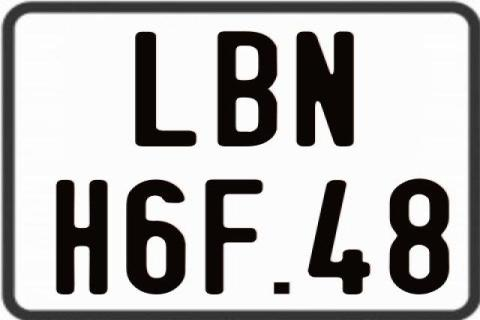0: (125, 178, 189, 296), (305, 179, 368, 295), (389, 178, 449, 296)
B: (218, 29, 278, 148)
F: (202, 180, 266, 298)
H: (54, 179, 109, 297)
L: (132, 30, 196, 148)
N: (295, 30, 354, 146)
